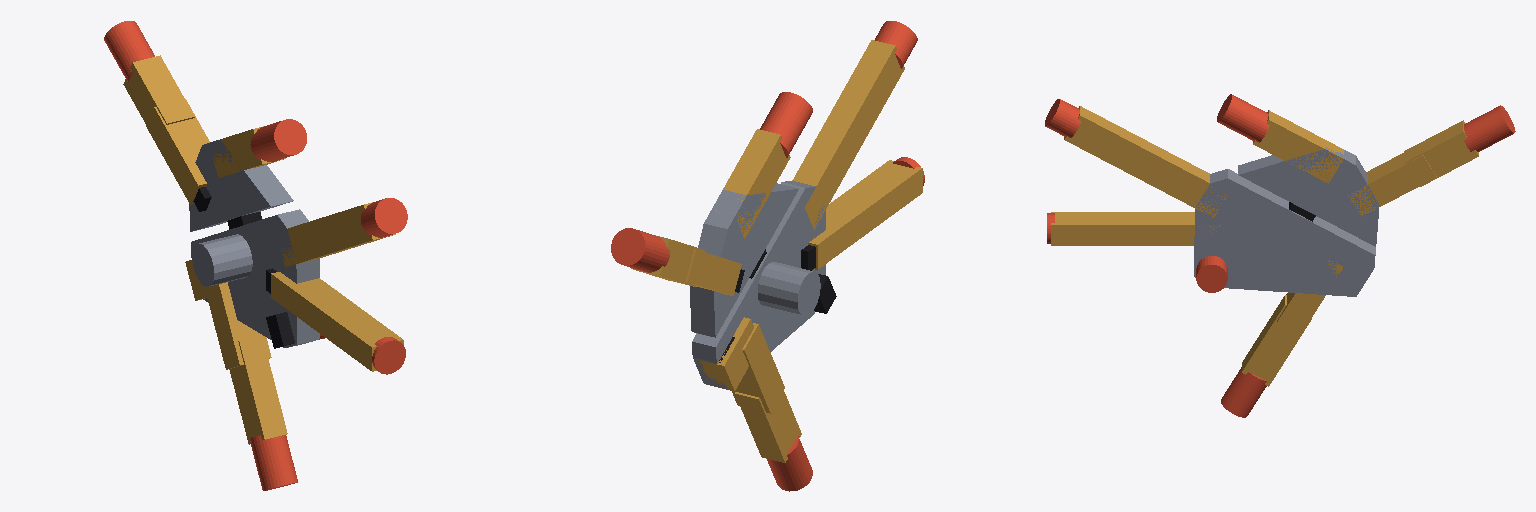
robot.urdf — g0051_c06:
<robot name="g0051_c06">
  <link name="palm">
    <visual name="palm_palm1">
      <origin xyz="0 0 0" rpy="0 0 0" />
      <geometry>
        <mesh filename="palm_palm1.obj" />
      </geometry>
      <material name="palm_palm1_mat">
        <color rgba="0.55 0.57 0.62 1" />
      </material>
    </visual>
    <collision>
      <origin xyz="0 0 0" rpy="0 0 0" />
      <geometry>
        <mesh filename="palm_palm1.obj" />
      </geometry>
    </collision>
    <visual name="palm_mount2">
      <origin xyz="0 0 0" rpy="0 0 0" />
      <geometry>
        <mesh filename="palm_mount2.obj" />
      </geometry>
      <material name="palm_mount2_mat">
        <color rgba="0.55 0.57 0.62 1" />
      </material>
    </visual>
    <collision>
      <origin xyz="0 0 0" rpy="0 0 0" />
      <geometry>
        <mesh filename="palm_mount2.obj" />
      </geometry>
    </collision>
    <visual name="palm_hinge3">
      <origin xyz="0 0.01125 0.0194855716" rpy="-1.57079633 0.523598776 1.57079633" />
      <geometry>
        <box size="0.029 0.034 0.02" />
      </geometry>
      <material name="palm_hinge3_mat">
        <color rgba="0.15 0.15 0.17 1" />
      </material>
    </visual>
    <collision>
      <origin xyz="0 0.01125 0.0194855716" rpy="-1.57079633 0.523598776 1.57079633" />
      <geometry>
        <box size="0.029 0.034 0.02" />
      </geometry>
    </collision>
    <visual name="palm_motor4">
      <origin xyz="-0.007 -0.08 -0.04" rpy="1.06057524e-16 -1.04719755 1.57079633" />
      <geometry>
        <box size="0.029 0.034 0.02" />
      </geometry>
      <material name="palm_motor4_mat">
        <color rgba="0.15 0.15 0.17 1" />
      </material>
    </visual>
    <collision>
      <origin xyz="-0.007 -0.08 -0.04" rpy="1.06057524e-16 -1.04719755 1.57079633" />
      <geometry>
        <box size="0.029 0.034 0.02" />
      </geometry>
    </collision>
    <visual name="palm_motor5">
      <origin xyz="-0.0045 -0.0725 1.37772765e-18" rpy="1.8369702e-16 -6.123234e-17 -1.12481984e-32" />
      <geometry>
        <box size="0.029 0.034 0.02" />
      </geometry>
      <material name="palm_motor5_mat">
        <color rgba="0.15 0.15 0.17 1" />
      </material>
    </visual>
    <collision>
      <origin xyz="-0.0045 -0.0725 1.37772765e-18" rpy="1.8369702e-16 -6.123234e-17 -1.12481984e-32" />
      <geometry>
        <box size="0.029 0.034 0.02" />
      </geometry>
    </collision>
    <visual name="palm_motor6">
      <origin xyz="0 -0.0735048095 0.03625" rpy="-1.57079633 -1.04719755 1.57079633" />
      <geometry>
        <box size="0.029 0.034 0.02" />
      </geometry>
      <material name="palm_motor6_mat">
        <color rgba="0.15 0.15 0.17 1" />
      </material>
    </visual>
    <collision>
      <origin xyz="0 -0.0735048095 0.03625" rpy="-1.57079633 -1.04719755 1.57079633" />
      <geometry>
        <box size="0.029 0.034 0.02" />
      </geometry>
    </collision>
    <visual name="palm_motor7">
      <origin xyz="-0.0045 0.0666996732 -0.0467548095" rpy="1.57079633 -0.523598776 -1.57079633" />
      <geometry>
        <box size="0.029 0.034 0.02" />
      </geometry>
      <material name="palm_motor7_mat">
        <color rgba="0.15 0.15 0.17 1" />
      </material>
    </visual>
    <collision>
      <origin xyz="-0.0045 0.0666996732 -0.0467548095" rpy="1.57079633 -0.523598776 -1.57079633" />
      <geometry>
        <box size="0.029 0.034 0.02" />
      </geometry>
    </collision>
    <inertial>
      <origin xyz="1.70076717e-19 -0.017668244 -0.0140856094" rpy="-1.57079633 -0.365586752 -1.57079633" />
      <mass value="0.72629364" />
      <inertia ixx="0.00061282079" ixy="0" ixz="0" iyy="0.00201988767" iyz="0" izz="0.00256298427" />
    </inertial>
  </link>
  <link name="palm0">
    <visual name="palm0_palm1">
      <origin xyz="0 0 0" rpy="0 0 0" />
      <geometry>
        <mesh filename="palm0_palm1.obj" />
      </geometry>
      <material name="palm0_palm1_mat">
        <color rgba="0.55 0.57 0.62 1" />
      </material>
    </visual>
    <collision>
      <origin xyz="0 0 0" rpy="0 0 0" />
      <geometry>
        <mesh filename="palm0_palm1.obj" />
      </geometry>
    </collision>
    <visual name="palm0_motor2">
      <origin xyz="0 0.0314951905 0.0502692379" rpy="-1.57079633 -1.04719755 1.57079633" />
      <geometry>
        <box size="0.029 0.034 0.02" />
      </geometry>
      <material name="palm0_motor2_mat">
        <color rgba="0.15 0.15 0.17 1" />
      </material>
    </visual>
    <collision>
      <origin xyz="0 0.0314951905 0.0502692379" rpy="-1.57079633 -1.04719755 1.57079633" />
      <geometry>
        <box size="0.029 0.034 0.02" />
      </geometry>
    </collision>
    <visual name="palm0_motor3">
      <origin xyz="-0.0045 0.0585048095 0.0102692379" rpy="-2.61799388 5.30287619e-17 3.061617e-17" />
      <geometry>
        <box size="0.029 0.034 0.02" />
      </geometry>
      <material name="palm0_motor3_mat">
        <color rgba="0.15 0.15 0.17 1" />
      </material>
    </visual>
    <collision>
      <origin xyz="-0.0045 0.0585048095 0.0102692379" rpy="-2.61799388 5.30287619e-17 3.061617e-17" />
      <geometry>
        <box size="0.029 0.034 0.02" />
      </geometry>
    </collision>
    <inertial>
      <origin xyz="1.37498338e-19 0.0232606253 0.0251676787" rpy="1.57079633 0.500743068 1.57079633" />
      <mass value="0.336892176" />
      <inertia ixx="0.000138961687" ixy="0" ixz="0" iyy="0.000478483396" iyz="0" izz="0.000585103434" />
    </inertial>
  </link>
  <link name="f0_link0">
    <visual name="f0_link0_link1">
      <origin xyz="0.019 0 -6.9388939e-18" rpy="-1.57079633 -0 -1.57079633" />
      <geometry>
        <cylinder radius="0.0165" length="0.029" />
      </geometry>
      <material name="f0_link0_link1_mat">
        <color rgba="0.85 0.35 0.25 1" />
      </material>
    </visual>
    <collision>
      <origin xyz="0.019 0 -6.9388939e-18" rpy="-1.57079633 -0 -1.57079633" />
      <geometry>
        <cylinder radius="0.0165" length="0.029" />
      </geometry>
    </collision>
    <inertial>
      <origin xyz="0.019 0 0" rpy="0 0 0" />
      <mass value="0.0763354" />
      <inertia ixx="9.49466441e-06" ixy="0" ixz="0" iyy="2.24143997e-05" iyz="0" izz="2.24143997e-05" />
    </inertial>
  </link>
  <link name="f1_link0">
    <visual name="f1_link0_link1">
      <origin xyz="0.03875 0 0" rpy="0 -0 0" />
      <geometry>
        <box size="0.1015 0.033 0.024" />
      </geometry>
      <material name="f1_link0_link1_mat">
        <color rgba="0.80 0.62 0.30 1" />
      </material>
    </visual>
    <collision>
      <origin xyz="0.03875 0 0" rpy="0 -0 0" />
      <geometry>
        <box size="0.1015 0.033 0.024" />
      </geometry>
    </collision>
    <inertial>
      <origin xyz="0.03875 0 0" rpy="0 0 0" />
      <mass value="0.140679" />
      <inertia ixx="1.95192113e-05" ixy="0" ixz="0" iyy="0.000127528444" iyz="0" izz="0.000133542472" />
    </inertial>
  </link>
  <link name="f1_link1">
    <visual name="f1_link1_link1">
      <origin xyz="0.03875 0 3.08148791e-33" rpy="0 -0 0" />
      <geometry>
        <box size="0.1015 0.033 0.024" />
      </geometry>
      <material name="f1_link1_link1_mat">
        <color rgba="0.80 0.62 0.30 1" />
      </material>
    </visual>
    <collision>
      <origin xyz="0.03875 0 3.08148791e-33" rpy="0 -0 0" />
      <geometry>
        <box size="0.1015 0.033 0.024" />
      </geometry>
    </collision>
    <inertial>
      <origin xyz="0.03875 0 0" rpy="0 0 0" />
      <mass value="0.140679" />
      <inertia ixx="1.95192113e-05" ixy="0" ixz="0" iyy="0.000127528444" iyz="0" izz="0.000133542472" />
    </inertial>
  </link>
  <link name="f1_link2">
    <visual name="f1_link2_link1">
      <origin xyz="0.009 0 0" rpy="-1.57079633 -0 -1.57079633" />
      <geometry>
        <cylinder radius="0.0165" length="0.009" />
      </geometry>
      <material name="f1_link2_link1_mat">
        <color rgba="0.85 0.35 0.25 1" />
      </material>
    </visual>
    <collision>
      <origin xyz="0.009 0 0" rpy="-1.57079633 -0 -1.57079633" />
      <geometry>
        <cylinder radius="0.0165" length="0.009" />
      </geometry>
    </collision>
    <inertial>
      <origin xyz="0.009 0 0" rpy="0 0 0" />
      <mass value="0.046399949" />
      <inertia ixx="5.41970115e-06" ixy="0" ixz="0" iyy="7.09430898e-06" iyz="0" izz="7.09430898e-06" />
    </inertial>
  </link>
  <link name="f2_link0">
    <visual name="f2_link0_link1">
      <origin xyz="0.04375 0 -1.30104261e-17" rpy="0 7.03853194e-17 0" />
      <geometry>
        <box size="0.1115 0.024 0.033" />
      </geometry>
      <material name="f2_link0_link1_mat">
        <color rgba="0.80 0.62 0.30 1" />
      </material>
    </visual>
    <collision>
      <origin xyz="0.04375 0 -1.30104261e-17" rpy="0 7.03853194e-17 0" />
      <geometry>
        <box size="0.1115 0.024 0.033" />
      </geometry>
    </collision>
    <inertial>
      <origin xyz="0.04375 0 0" rpy="0 0 0" />
      <mass value="0.154539" />
      <inertia ixx="2.14422863e-05" ixy="0" ixz="0" iyy="0.000174130038" iyz="0" izz="0.000167523496" />
    </inertial>
  </link>
  <link name="f2_link1">
    <visual name="f2_link1_link1">
      <origin xyz="0.03375 0 -8.67361738e-19" rpy="0 7.03853194e-17 0" />
      <geometry>
        <box size="0.0915 0.024 0.033" />
      </geometry>
      <material name="f2_link1_link1_mat">
        <color rgba="0.80 0.62 0.30 1" />
      </material>
    </visual>
    <collision>
      <origin xyz="0.03375 0 -8.67361738e-19" rpy="0 7.03853194e-17 0" />
      <geometry>
        <box size="0.0915 0.024 0.033" />
      </geometry>
    </collision>
    <inertial>
      <origin xyz="0.03375 0 0" rpy="0 0 0" />
      <mass value="0.126819" />
      <inertia ixx="1.75961363e-05" ixy="0" ixz="0" iyy="9.99888553e-05" iyz="0" izz="9.45673431e-05" />
    </inertial>
  </link>
  <link name="f2_link2">
    <visual name="f2_link2_link1">
      <origin xyz="0.019 0 -8.67361738e-18" rpy="-1.57079633 -0 -1.57079633" />
      <geometry>
        <cylinder radius="0.0165" length="0.029" />
      </geometry>
      <material name="f2_link2_link1_mat">
        <color rgba="0.85 0.35 0.25 1" />
      </material>
    </visual>
    <collision>
      <origin xyz="0.019 0 -8.67361738e-18" rpy="-1.57079633 -0 -1.57079633" />
      <geometry>
        <cylinder radius="0.0165" length="0.029" />
      </geometry>
    </collision>
    <inertial>
      <origin xyz="0.019 0 0" rpy="0 0 0" />
      <mass value="0.0763354" />
      <inertia ixx="9.49466441e-06" ixy="0" ixz="0" iyy="2.24143997e-05" iyz="0" izz="2.24143997e-05" />
    </inertial>
  </link>
  <link name="f3_link0">
    <visual name="f3_link0_link1">
      <origin xyz="-0.00625 0 -0.0165" rpy="0 4.06369831e-17 0" />
      <geometry>
        <box size="0.0365 0.029 0.053" />
      </geometry>
      <material name="f3_link0_link1_mat">
        <color rgba="0.80 0.62 0.30 1" />
      </material>
    </visual>
    <collision>
      <origin xyz="-0.00625 0 -0.0165" rpy="0 4.06369831e-17 0" />
      <geometry>
        <box size="0.0365 0.029 0.053" />
      </geometry>
    </collision>
    <inertial>
      <origin xyz="-0.00625 0 -0.0165" rpy="0 0 0" />
      <mass value="0.098175875" />
      <inertia ixx="2.98618286e-05" ixy="0" ixz="0" iyy="3.38809035e-05" iyz="0" izz="1.778006e-05" />
    </inertial>
  </link>
  <link name="f3_link1">
    <visual name="f3_link1_link1">
      <origin xyz="0.03375 0 6.9388939e-18" rpy="0 4.06369831e-17 0" />
      <geometry>
        <box size="0.0915 0.033 0.029" />
      </geometry>
      <material name="f3_link1_link1_mat">
        <color rgba="0.80 0.62 0.30 1" />
      </material>
    </visual>
    <collision>
      <origin xyz="0.03375 0 6.9388939e-18" rpy="0 4.06369831e-17 0" />
      <geometry>
        <box size="0.0915 0.033 0.029" />
      </geometry>
    </collision>
    <inertial>
      <origin xyz="0.03375 0 0" rpy="0 0 0" />
      <mass value="0.153239625" />
      <inertia ixx="2.46460397e-05" ixy="0" ixz="0" iyy="0.000117652915" iyz="0" izz="0.000120819867" />
    </inertial>
  </link>
  <link name="f3_link2">
    <visual name="f3_link2_link1">
      <origin xyz="0.03375 0 -1.38777878e-17" rpy="0 4.06369831e-17 0" />
      <geometry>
        <box size="0.0915 0.024 0.033" />
      </geometry>
      <material name="f3_link2_link1_mat">
        <color rgba="0.80 0.62 0.30 1" />
      </material>
    </visual>
    <collision>
      <origin xyz="0.03375 0 -1.38777878e-17" rpy="0 4.06369831e-17 0" />
      <geometry>
        <box size="0.0915 0.024 0.033" />
      </geometry>
    </collision>
    <inertial>
      <origin xyz="0.03375 0 0" rpy="0 0 0" />
      <mass value="0.126819" />
      <inertia ixx="1.75961363e-05" ixy="0" ixz="0" iyy="9.99888553e-05" iyz="0" izz="9.45673431e-05" />
    </inertial>
  </link>
  <link name="f3_link3">
    <visual name="f3_link3_link1">
      <origin xyz="0.029 0 1.04083409e-17" rpy="-1.57079633 -0 -1.57079633" />
      <geometry>
        <cylinder radius="0.0165" length="0.049" />
      </geometry>
      <material name="f3_link3_link1_mat">
        <color rgba="0.85 0.35 0.25 1" />
      </material>
    </visual>
    <collision>
      <origin xyz="0.029 0 1.04083409e-17" rpy="-1.57079633 -0 -1.57079633" />
      <geometry>
        <cylinder radius="0.0165" length="0.049" />
      </geometry>
    </collision>
    <inertial>
      <origin xyz="0.029 0 0" rpy="0 0 0" />
      <mass value="0.106270851" />
      <inertia ixx="1.35696277e-05" ixy="0" ixz="0" iyy="5.30015704e-05" iyz="0" izz="5.30015704e-05" />
    </inertial>
  </link>
  <link name="f4_link0">
    <visual name="f4_link0_link1">
      <origin xyz="0.03375 0 0" rpy="0 7.03853194e-17 0" />
      <geometry>
        <box size="0.0915 0.024 0.033" />
      </geometry>
      <material name="f4_link0_link1_mat">
        <color rgba="0.80 0.62 0.30 1" />
      </material>
    </visual>
    <collision>
      <origin xyz="0.03375 0 0" rpy="0 7.03853194e-17 0" />
      <geometry>
        <box size="0.0915 0.024 0.033" />
      </geometry>
    </collision>
    <inertial>
      <origin xyz="0.03375 0 0" rpy="0 0 0" />
      <mass value="0.126819" />
      <inertia ixx="1.75961363e-05" ixy="0" ixz="0" iyy="9.99888553e-05" iyz="0" izz="9.45673431e-05" />
    </inertial>
  </link>
  <link name="f4_link1">
    <visual name="f4_link1_link1">
      <origin xyz="0.029 0 -6.9388939e-18" rpy="-1.57079633 -0 -1.57079633" />
      <geometry>
        <cylinder radius="0.0165" length="0.049" />
      </geometry>
      <material name="f4_link1_link1_mat">
        <color rgba="0.85 0.35 0.25 1" />
      </material>
    </visual>
    <collision>
      <origin xyz="0.029 0 -6.9388939e-18" rpy="-1.57079633 -0 -1.57079633" />
      <geometry>
        <cylinder radius="0.0165" length="0.049" />
      </geometry>
    </collision>
    <inertial>
      <origin xyz="0.029 0 0" rpy="0 0 0" />
      <mass value="0.106270851" />
      <inertia ixx="1.35696277e-05" ixy="0" ixz="0" iyy="5.30015704e-05" iyz="0" izz="5.30015704e-05" />
    </inertial>
  </link>
  <link name="f5_link0">
    <visual name="f5_link0_link1">
      <origin xyz="0.03375 0 1.04083409e-17" rpy="0 -7.03853194e-17 0" />
      <geometry>
        <box size="0.0915 0.033 0.029" />
      </geometry>
      <material name="f5_link0_link1_mat">
        <color rgba="0.80 0.62 0.30 1" />
      </material>
    </visual>
    <collision>
      <origin xyz="0.03375 0 1.04083409e-17" rpy="0 -7.03853194e-17 0" />
      <geometry>
        <box size="0.0915 0.033 0.029" />
      </geometry>
    </collision>
    <inertial>
      <origin xyz="0.03375 0 0" rpy="0 0 0" />
      <mass value="0.153239625" />
      <inertia ixx="2.46460397e-05" ixy="0" ixz="0" iyy="0.000117652915" iyz="0" izz="0.000120819867" />
    </inertial>
  </link>
  <link name="f5_link1">
    <visual name="f5_link1_link1">
      <origin xyz="0.02375 0 5.20417043e-18" rpy="0 -7.03853194e-17 0" />
      <geometry>
        <box size="0.0715 0.029 0.033" />
      </geometry>
      <material name="f5_link1_link1_mat">
        <color rgba="0.80 0.62 0.30 1" />
      </material>
    </visual>
    <collision>
      <origin xyz="0.02375 0 5.20417043e-18" rpy="0 -7.03853194e-17 0" />
      <geometry>
        <box size="0.0715 0.029 0.033" />
      </geometry>
    </collision>
    <inertial>
      <origin xyz="0.02375 0 0" rpy="0 0 0" />
      <mass value="0.119744625" />
      <inertia ixx="1.92589272e-05" ixy="0" ixz="0" iyy="6.18805296e-05" iyz="0" izz="5.94058074e-05" />
    </inertial>
  </link>
  <link name="f5_link2">
    <visual name="f5_link2_link1">
      <origin xyz="0.029 0 5.20417043e-18" rpy="-1.57079633 -0 -1.57079633" />
      <geometry>
        <cylinder radius="0.0165" length="0.049" />
      </geometry>
      <material name="f5_link2_link1_mat">
        <color rgba="0.85 0.35 0.25 1" />
      </material>
    </visual>
    <collision>
      <origin xyz="0.029 0 5.20417043e-18" rpy="-1.57079633 -0 -1.57079633" />
      <geometry>
        <cylinder radius="0.0165" length="0.049" />
      </geometry>
    </collision>
    <inertial>
      <origin xyz="0.029 0 0" rpy="0 0 0" />
      <mass value="0.106270851" />
      <inertia ixx="1.35696277e-05" ixy="0" ixz="0" iyy="5.30015704e-05" iyz="0" izz="5.30015704e-05" />
    </inertial>
  </link>
  <joint name="palm0_joint" type="revolute">
    <parent link="palm" />
    <child link="palm0" />
    <origin xyz="0 0.015 0.0259807621" rpy="0 0 0" />
    <axis xyz="0 0.866025404 -0.5" />
    <limit effort="0.5" lower="-0.523598776" upper="0.523598776" velocity="5" />
    <dynamics damping="0.0775033" friction="0" />
  </joint>
  <joint name="f0_j0" type="revolute">
    <parent link="palm" />
    <child link="f0_link0" />
    <origin xyz="0.0005 -0.08 -0.04" rpy="1.04719755 5.30287619e-17 -3.061617e-17" />
    <axis xyz="0 1 6.123234e-17" />
    <limit effort="0.5" lower="-0.523598776" upper="0.523598776" velocity="5" />
    <dynamics damping="0.0775033" friction="0" />
  </joint>
  <joint name="f1_j0" type="revolute">
    <parent link="palm" />
    <child link="f1_link0" />
    <origin xyz="-0.0045 -0.08 0" rpy="0 1.8369702e-16 -1.57079633" />
    <axis xyz="-0 -1 -6.123234e-17" />
    <limit effort="0.5" lower="-0.523598776" upper="0.523598776" velocity="5" />
    <dynamics damping="0.0775033" friction="0" />
  </joint>
  <joint name="f1_j1" type="revolute">
    <parent link="f1_link0" />
    <child link="f1_link1" />
    <origin xyz="0.08 0 0" rpy="0 0 0" />
    <axis xyz="-0 -1 -6.123234e-17" />
    <limit effort="0.5" lower="-0.523598776" upper="0.523598776" velocity="5" />
    <dynamics damping="0.0775033" friction="0" />
  </joint>
  <joint name="f1_j2" type="revolute">
    <parent link="f1_link1" />
    <child link="f1_link2" />
    <origin xyz="0.08 0 0" rpy="0 0 0" />
    <axis xyz="-0 -1 -6.123234e-17" />
    <limit effort="0.5" lower="-0.523598776" upper="0.523598776" velocity="5" />
    <dynamics damping="0.0775033" friction="0" />
  </joint>
  <joint name="f2_j0" type="revolute">
    <parent link="palm" />
    <child link="f2_link0" />
    <origin xyz="0 -0.08 0.04" rpy="-0 -0.523598776 -1.57079633" />
    <axis xyz="0 0 1" />
    <limit effort="0.5" lower="-0.523598776" upper="1.57079633" velocity="5" />
    <dynamics damping="0.0775033" friction="0" />
  </joint>
  <joint name="f2_j1" type="revolute">
    <parent link="f2_link0" />
    <child link="f2_link1" />
    <origin xyz="0.09 0 0" rpy="0 0 0" />
    <axis xyz="0 0 1" />
    <limit effort="0.5" lower="-0.523598776" upper="1.57079633" velocity="5" />
    <dynamics damping="0.0775033" friction="0" />
  </joint>
  <joint name="f2_j2" type="revolute">
    <parent link="f2_link1" />
    <child link="f2_link2" />
    <origin xyz="0.07 0 0" rpy="0 0 0" />
    <axis xyz="0 0 1" />
    <limit effort="0.5" lower="-0.523598776" upper="1.57079633" velocity="5" />
    <dynamics damping="0.0775033" friction="0" />
  </joint>
  <joint name="f3_j0" type="revolute">
    <parent link="palm" />
    <child link="f3_link0" />
    <origin xyz="-0.0045 0.04 -0.04" rpy="0 1.04719755 -1.57079633" />
    <axis xyz="0 0 1" />
    <limit effort="0.5" lower="-0.523598776" upper="1.57079633" velocity="5" />
    <dynamics damping="0.0775033" friction="0" />
  </joint>
  <joint name="f3_j1" type="revolute">
    <parent link="f3_link0" />
    <child link="f3_link1" />
    <origin xyz="0 0 0" rpy="0 0 0" />
    <axis xyz="0 1 6.123234e-17" />
    <limit effort="0.5" lower="-0.523598776" upper="0.523598776" velocity="5" />
    <dynamics damping="0.0775033" friction="0" />
  </joint>
  <joint name="f3_j2" type="revolute">
    <parent link="f3_link1" />
    <child link="f3_link2" />
    <origin xyz="0.07 0 0" rpy="0 0 0" />
    <axis xyz="0 0 1" />
    <limit effort="0.5" lower="-0.523598776" upper="1.57079633" velocity="5" />
    <dynamics damping="0.0775033" friction="0" />
  </joint>
  <joint name="f3_j3" type="revolute">
    <parent link="f3_link2" />
    <child link="f3_link3" />
    <origin xyz="0.07 0 0" rpy="0 0 0" />
    <axis xyz="0 0 1" />
    <limit effort="0.5" lower="-0.523598776" upper="1.57079633" velocity="5" />
    <dynamics damping="0.0775033" friction="0" />
  </joint>
  <joint name="f4_j0" type="revolute">
    <parent link="palm0" />
    <child link="f4_link0" />
    <origin xyz="0 0.025 0.0540192379" rpy="-0 -0.523598776 -1.57079633" />
    <axis xyz="0 0 1" />
    <limit effort="0.5" lower="-0.523598776" upper="1.57079633" velocity="5" />
    <dynamics damping="0.0775033" friction="0" />
  </joint>
  <joint name="f4_j1" type="revolute">
    <parent link="f4_link0" />
    <child link="f4_link1" />
    <origin xyz="0.07 0 0" rpy="0 0 0" />
    <axis xyz="0 0 1" />
    <limit effort="0.5" lower="-0.523598776" upper="1.57079633" velocity="5" />
    <dynamics damping="0.0775033" friction="0" />
  </joint>
  <joint name="f5_j0" type="revolute">
    <parent link="palm0" />
    <child link="f5_link0" />
    <origin xyz="-0.0045 0.065 0.0140192379" rpy="-3.14159265 -0.523598776 1.57079633" />
    <axis xyz="-0 -1 -6.123234e-17" />
    <limit effort="0.5" lower="-0.523598776" upper="0.523598776" velocity="5" />
    <dynamics damping="0.0775033" friction="0" />
  </joint>
  <joint name="f5_j1" type="revolute">
    <parent link="f5_link0" />
    <child link="f5_link1" />
    <origin xyz="0.07 0 0" rpy="0 0 0" />
    <axis xyz="0 0 1" />
    <limit effort="0.5" lower="-0.523598776" upper="1.57079633" velocity="5" />
    <dynamics damping="0.0775033" friction="0" />
  </joint>
  <joint name="f5_j2" type="revolute">
    <parent link="f5_link1" />
    <child link="f5_link2" />
    <origin xyz="0.05 0 0" rpy="0 0 0" />
    <axis xyz="-0 -1 -6.123234e-17" />
    <limit effort="0.5" lower="-0.523598776" upper="0.523598776" velocity="5" />
    <dynamics damping="0.0775033" friction="0" />
  </joint>
</robot>

--- Facts derived from the render (not from the file) ---
3 views of the same robot in one strip: view 1: azimuth 30°, elevation 25°; view 2: azimuth 150°, elevation 25°; view 3: azimuth 270°, elevation 25° (orthographic).
Robot: g0051_c06 — 18 links, 17 joints (17 revolute); root link palm; default pose: all joints at 0.
Visible links, largest first — view 1: palm, palm0, f3_link2, f5_link0, f5_link1, f1_link0, f1_link1, f3_link1, f3_link3, f2_link0, f4_link1, f5_link2 (+4 smaller); view 2: palm, palm0, f2_link0, f2_link1, f1_link1, f4_link0, f3_link2, f1_link0, f3_link1, f5_link2, f4_link1, f5_link0 (+4 smaller); view 3: palm, palm0, f2_link0, f1_link1, f4_link0, f5_link0, f2_link1, f3_link2, f1_link0, f5_link1, f4_link1, f5_link2 (+4 smaller).
Boxes of the visible links, x1,y1,x2,y2 form: palm: (191, 209, 319, 348); palm0: (189, 139, 293, 231); f3_link2: (229, 336, 287, 444); f5_link0: (146, 99, 209, 204); f5_link1: (123, 55, 194, 125); f1_link0: (271, 272, 357, 338); f1_link1: (316, 299, 403, 371); f3_link1: (204, 282, 271, 369); f3_link3: (249, 435, 297, 490); f2_link0: (281, 215, 347, 267); f4_link1: (250, 119, 306, 161); f5_link2: (104, 21, 154, 81); palm: (692, 181, 836, 389); palm0: (690, 183, 798, 337); f2_link0: (792, 102, 869, 229); f2_link1: (837, 40, 904, 130); f1_link1: (832, 160, 922, 234); f4_link0: (716, 129, 790, 238); f3_link2: (735, 391, 801, 462); f1_link0: (808, 194, 875, 269); f3_link1: (732, 323, 784, 413); f5_link2: (611, 228, 669, 272); f4_link1: (760, 92, 812, 157); f5_link0: (686, 249, 741, 295); palm: (1194, 169, 1375, 296); palm0: (1238, 147, 1379, 246); f2_link0: (1123, 136, 1226, 217); f1_link1: (1051, 212, 1146, 245); f4_link0: (1253, 110, 1343, 183); f5_link0: (1348, 153, 1436, 216); f2_link1: (1064, 106, 1154, 175); f3_link2: (1242, 295, 1311, 386); f1_link0: (1127, 212, 1220, 245); f5_link1: (1404, 120, 1478, 186); f4_link1: (1217, 94, 1269, 142); f5_link2: (1464, 105, 1515, 151).
Size in the robot's own frame: 0.086 by 0.4943 by 0.3719 metres.
3 mesh visuals loaded from 3 distinct referenced files (3 OBJ).
